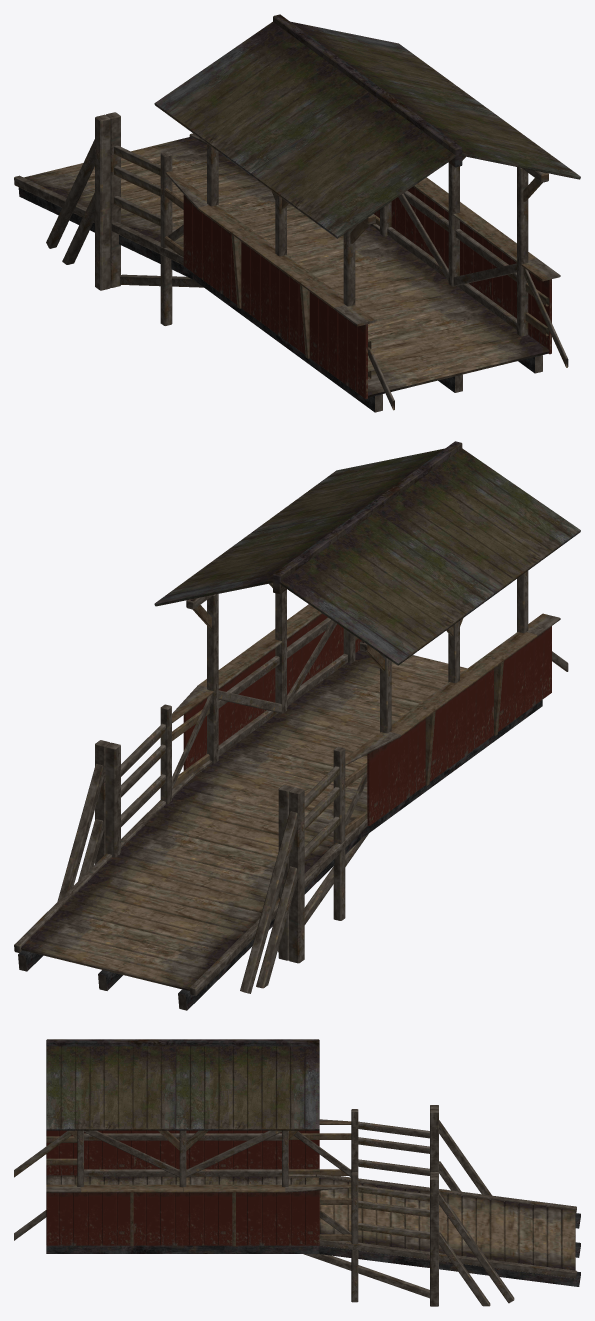
Rendered from Bridge_0.fbx.
The picture shows the model from 3 angles, top to bottom: view 1: azimuth 30°, elevation 25°; view 2: azimuth 150°, elevation 25°; view 3: azimuth 270°, elevation 25°; orthographic projection. The views are drawn at different scales.
Parts seen in each view (by area): view 1: Bridge_Roof_End_A:Bridge_Roof_End_A_0; view 2: Bridge_Roof_End_A:Bridge_Roof_End_A_0; view 3: Bridge_Roof_End_A:Bridge_Roof_End_A_0.
Part boxes in pixels (box(x1,y1,x2,y2)): Bridge_Roof_End_A:Bridge_Roof_End_A_0: box(14, 14, 580, 412); Bridge_Roof_End_A:Bridge_Roof_End_A_0: box(14, 441, 580, 1010); Bridge_Roof_End_A:Bridge_Roof_End_A_0: box(14, 1039, 580, 1306).
Bounding box in the file's own units: 31.01 × 36.96 × 83.06.
1 material, 1 textured.
